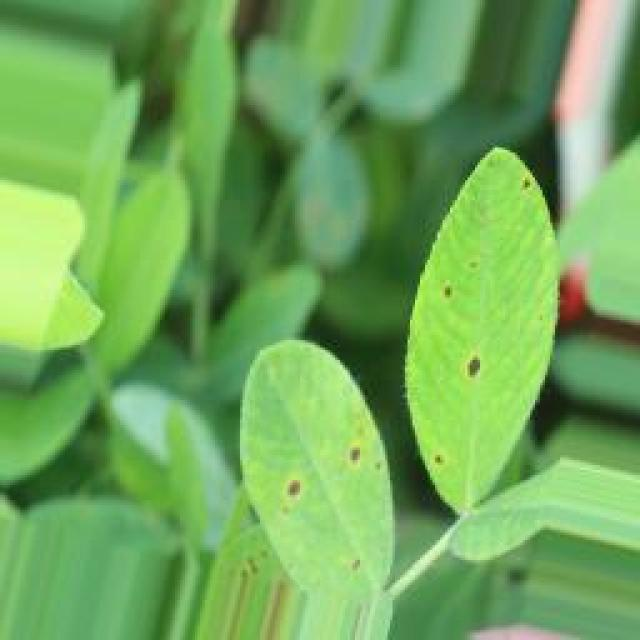Sigatoka: (265, 448, 327, 539), (519, 156, 574, 237), (451, 326, 503, 402), (320, 419, 371, 492), (439, 247, 490, 315), (330, 536, 377, 601), (417, 432, 464, 490)
